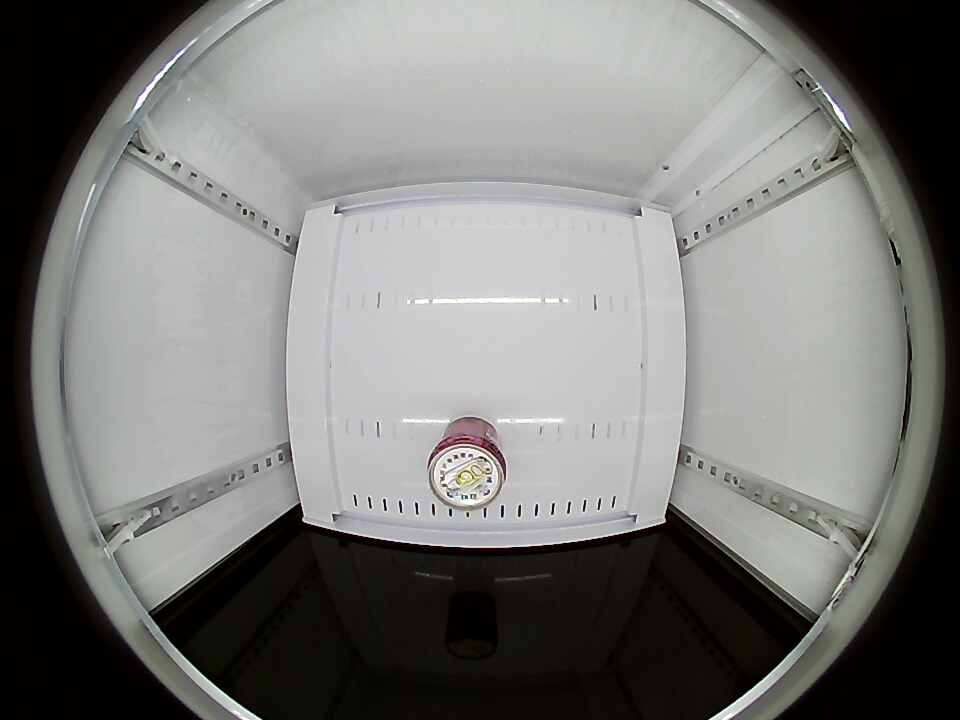wangzainiunai: (427, 422, 507, 511)
